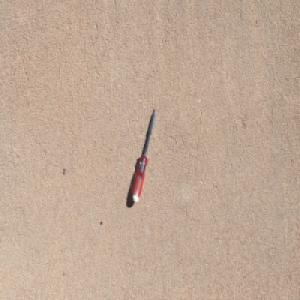Screwdriver: (131, 105, 157, 203)
